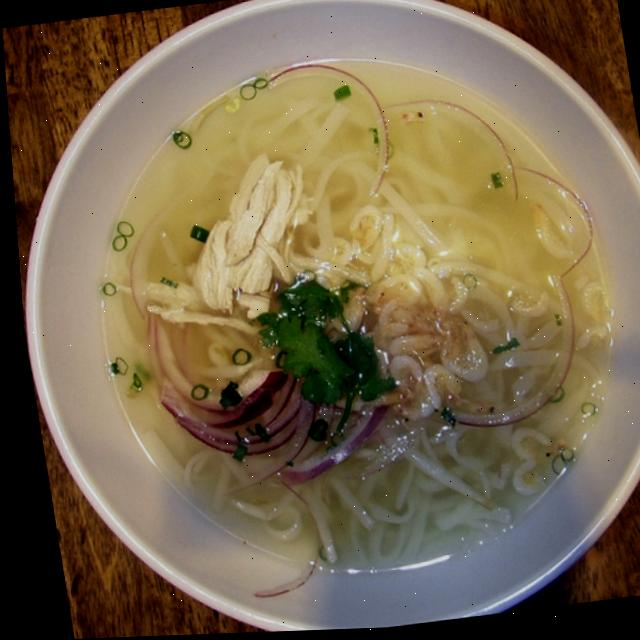面条主食: (27, 13, 640, 626)
